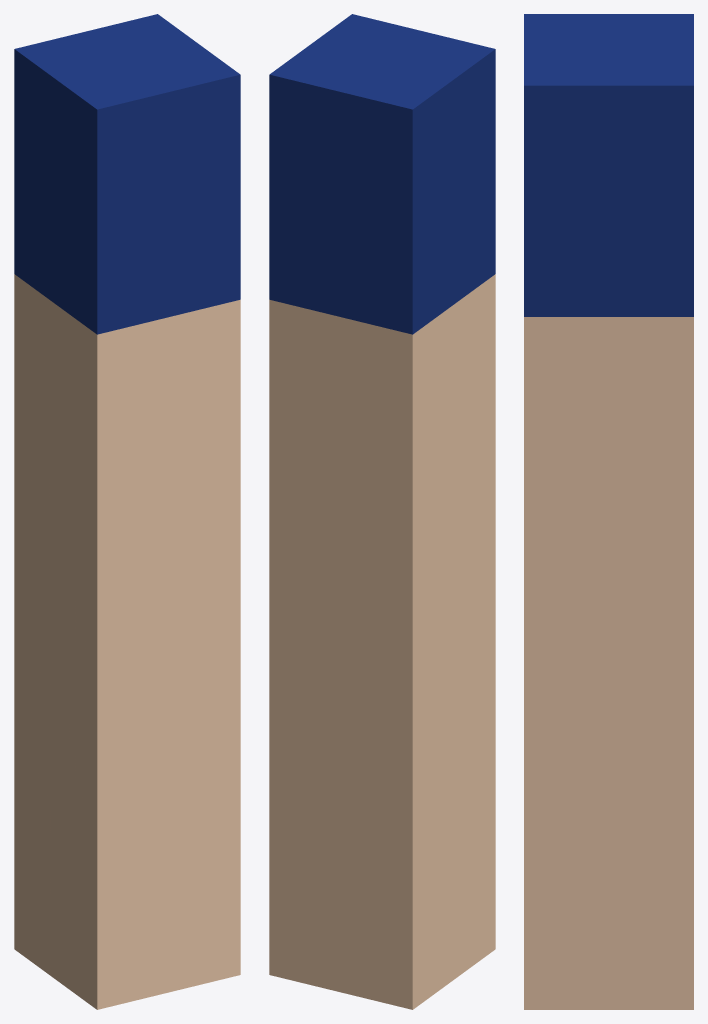
The model's file is arm.obj.
The picture shows the model from 3 angles, left to right: view 1: azimuth 30°, elevation 25°; view 2: azimuth 150°, elevation 25°; view 3: azimuth 270°, elevation 25°; orthographic projection. The views are drawn at different scales.
Size of the model in its own units: 0.2 by 1.2 by 0.2.
Materials: 1 (1 with a texture image).
